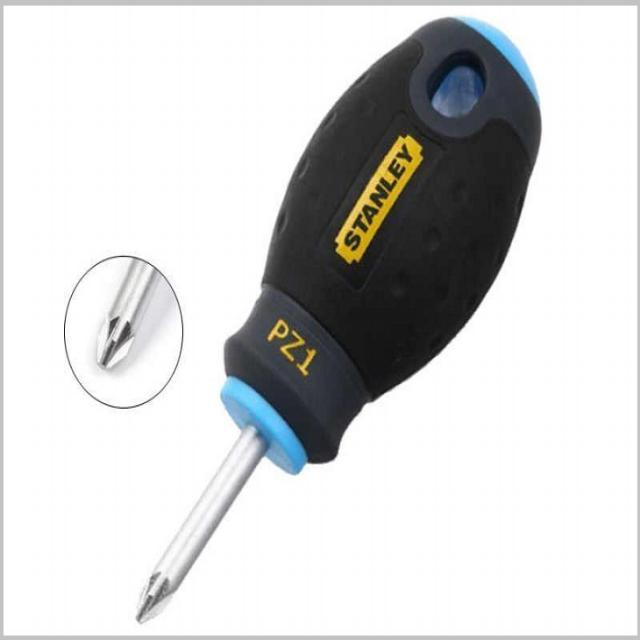screwdriver: (132, 0, 545, 630)
